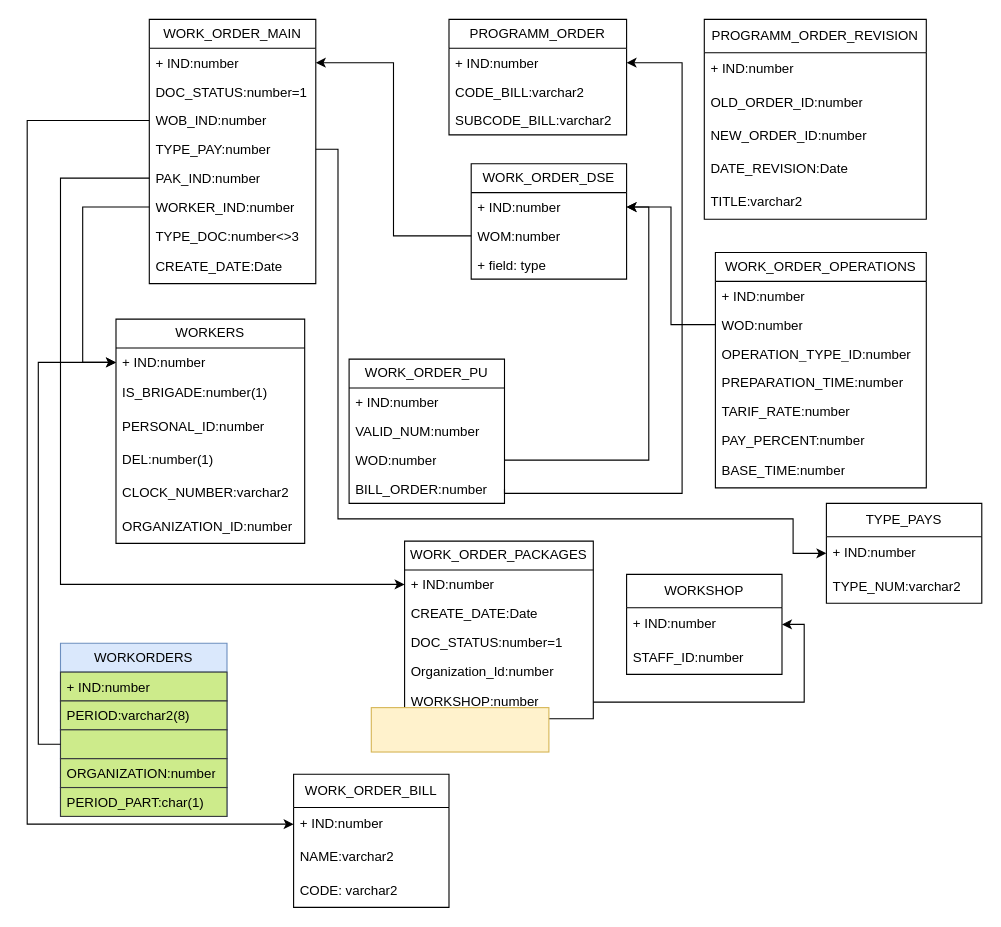
This 1001x927 diagram has some shape labels left out. Each missing label, with the centre of its shape:
WORKER:number: pixel 143 744
Дата наряда определяется по дате пачки!: pixel 459 729
